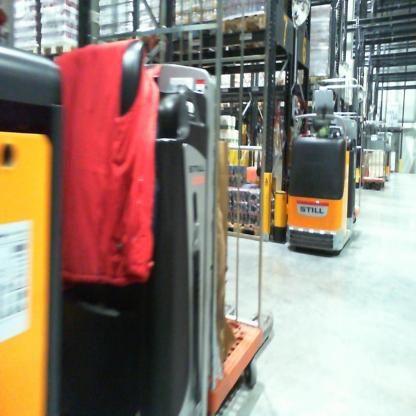pallet: (226, 11, 287, 69), (168, 14, 232, 68), (225, 214, 268, 243), (297, 69, 332, 94), (41, 40, 79, 58), (9, 46, 41, 64), (253, 91, 277, 112), (228, 99, 255, 112), (214, 98, 232, 114)
pallet_truck: (4, 21, 288, 414), (282, 48, 376, 267), (350, 123, 388, 201), (376, 111, 398, 183)
